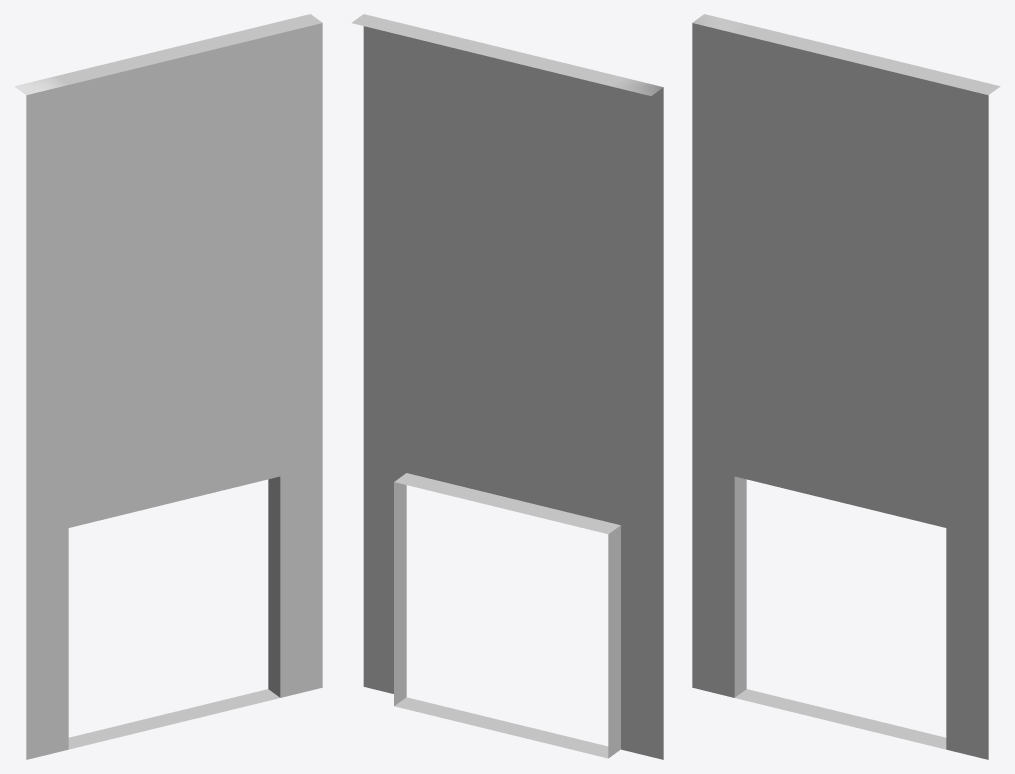
File: M_WallDoor350x750DWhite80.FBX
3 renders of one model, left to right at view 1: azimuth 30°, elevation 25°; view 2: azimuth 150°, elevation 25°; view 3: azimuth 330°, elevation 25°, orthographic.
Visible parts, largest first — view 1: M_WallDoor350x750DWhite80; view 2: M_WallDoor350x750DWhite80; view 3: M_WallDoor350x750DWhite80.
Boxes of the visible parts, left/top/right/bottom form: M_WallDoor350x750DWhite80: left=14, top=14, right=322, bottom=759; M_WallDoor350x750DWhite80: left=352, top=14, right=663, bottom=759; M_WallDoor350x750DWhite80: left=692, top=14, right=1000, bottom=759.
Bounding box in the file's own units: 3.5 × 7.5 × 0.25.
